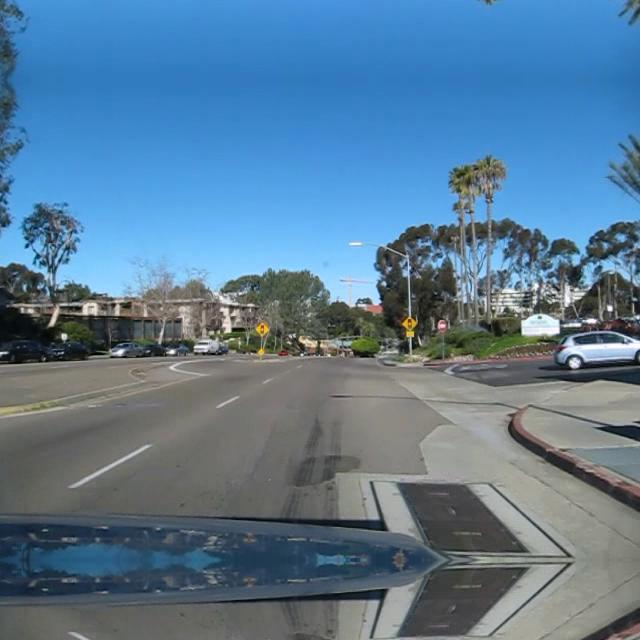signalAhead: (400, 314, 418, 332), (252, 321, 270, 337)
stop: (438, 318, 447, 332)
